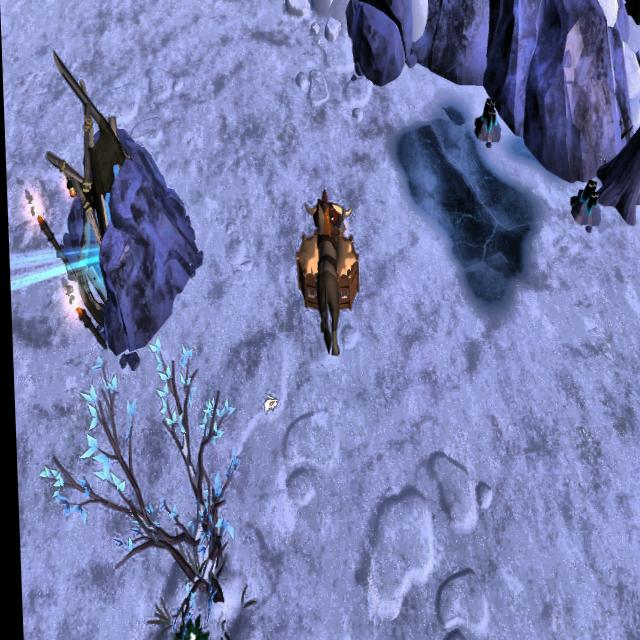ore_t4: (578, 174, 600, 220), (479, 93, 498, 133)
